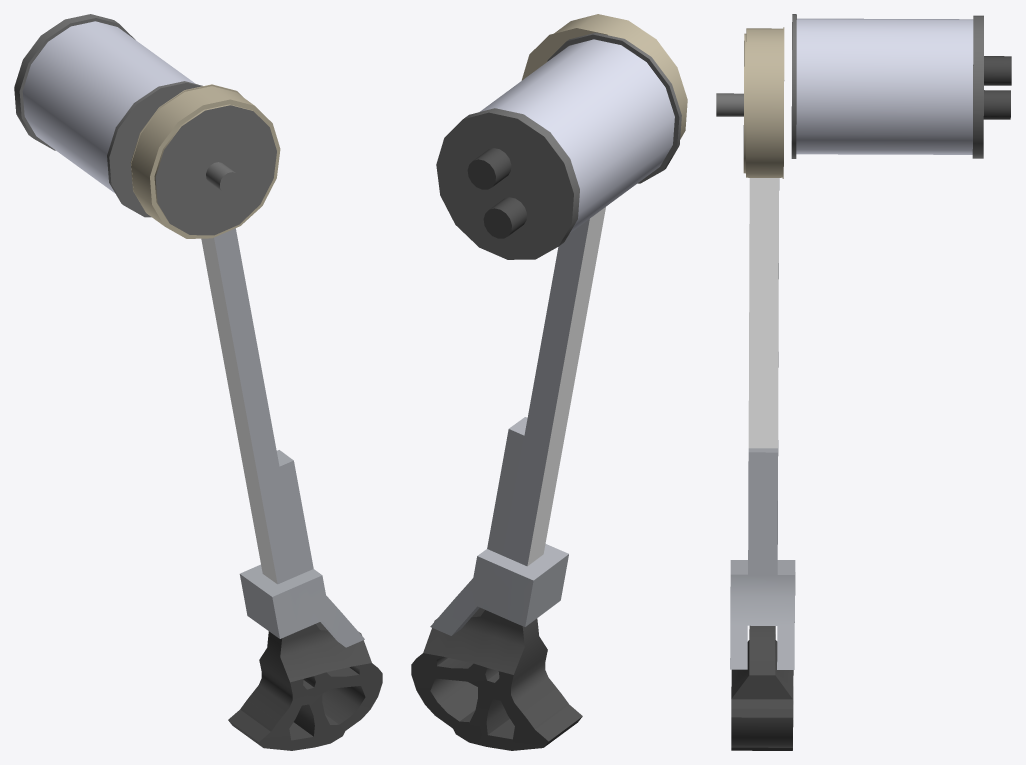
Rendered from Tibia.obj.
The picture shows the model from 3 angles, left to right: view 1: azimuth 30°, elevation 25°; view 2: azimuth 150°, elevation 25°; view 3: azimuth 270°, elevation 25°; orthographic projection. The views are drawn at different scales.
Visible parts, largest first — view 1: Tibia TibiaLeg, Tibia; view 2: Tibia TibiaLeg, Tibia, Tibia TibiaCanisterButton; view 3: Tibia TibiaLeg, Tibia, Tibia TibiaCanisterButton.
Boxes of the visible parts, x1,y1,x2,y2 form: Tibia TibiaLeg: (130, 84, 382, 750); Tibia: (14, 14, 202, 217); Tibia TibiaLeg: (411, 14, 687, 750); Tibia: (436, 32, 681, 259); Tibia TibiaCanisterButton: (483, 197, 526, 238); Tibia TibiaLeg: (716, 27, 795, 750); Tibia: (791, 14, 1011, 158); Tibia TibiaCanisterButton: (983, 90, 1010, 119).
Size of the model in its own units: 0.9522 by 2.5 by 1.
Materials: 1 (1 with a texture image).
